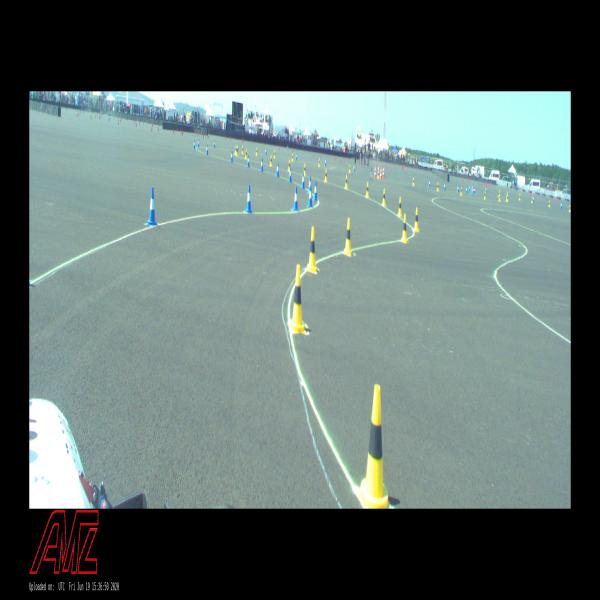blue_cone: (148, 188, 157, 226), (245, 184, 252, 214), (292, 186, 299, 211), (307, 185, 313, 208), (307, 175, 312, 195), (313, 181, 318, 201), (288, 167, 293, 183), (301, 172, 305, 190), (260, 159, 264, 172), (276, 162, 279, 176), (247, 154, 250, 168), (230, 150, 233, 162), (428, 179, 431, 188), (465, 185, 468, 194), (206, 144, 208, 155), (443, 183, 446, 190), (193, 140, 195, 150), (560, 202, 562, 210), (457, 184, 459, 192), (295, 152, 297, 160), (265, 148, 267, 156), (353, 164, 355, 172), (468, 184, 470, 192), (324, 158, 326, 166), (472, 188, 474, 195), (485, 187, 487, 193), (198, 138, 199, 148), (214, 140, 215, 148), (237, 143, 238, 151), (474, 187, 475, 195), (533, 195, 534, 202), (472, 184, 473, 191)
large_orange_cone: (382, 166, 385, 178), (380, 166, 382, 180), (378, 164, 380, 177), (374, 165, 376, 178)
yellow_cone: (355, 384, 392, 509), (289, 265, 306, 333), (307, 227, 317, 273), (344, 218, 352, 256), (401, 214, 408, 243), (414, 208, 420, 232), (398, 196, 402, 217), (382, 189, 386, 206), (366, 182, 370, 198), (344, 175, 348, 190), (324, 168, 327, 183), (303, 163, 306, 176), (348, 164, 351, 174), (412, 176, 415, 186), (288, 159, 290, 172), (273, 150, 276, 158), (498, 190, 501, 198), (245, 148, 247, 160), (270, 155, 272, 166), (236, 145, 238, 156), (460, 186, 462, 196), (437, 182, 439, 192), (242, 144, 244, 154), (256, 147, 258, 156), (318, 158, 320, 167), (292, 153, 294, 162), (377, 170, 379, 179), (548, 200, 550, 208), (506, 194, 508, 202), (531, 196, 533, 204), (569, 205, 571, 212), (484, 192, 486, 199), (518, 194, 520, 201), (235, 144, 236, 154), (499, 194, 500, 202), (507, 192, 508, 200)
